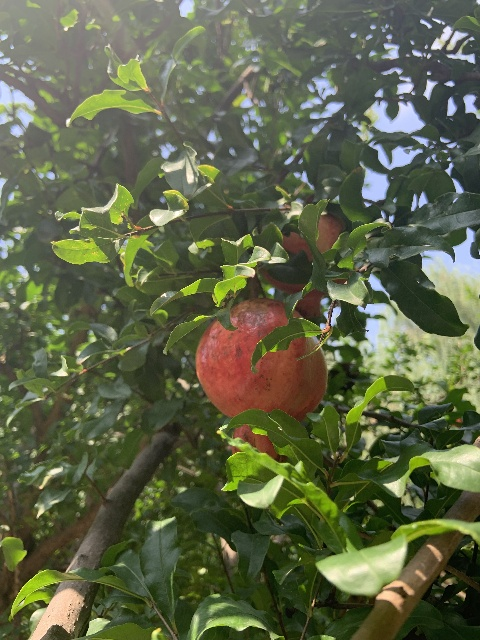ripe: (195, 297, 327, 462), (260, 211, 345, 319)
